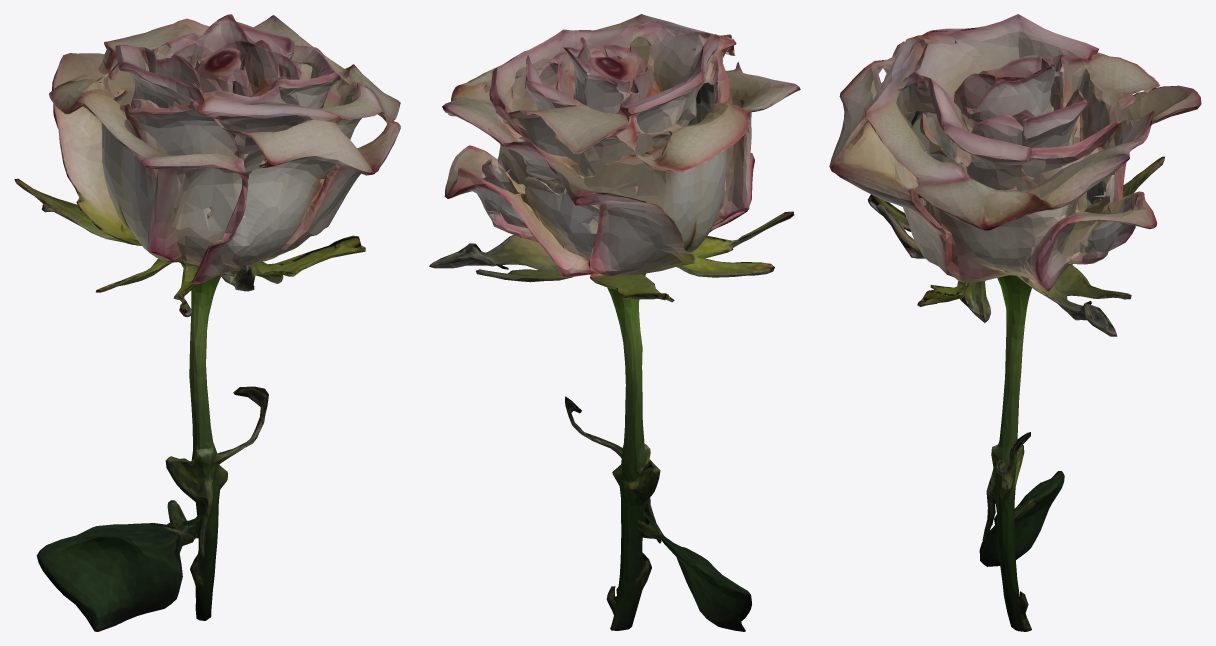
3 views of the same model, side by side, from view 1: azimuth 30°, elevation 25°; view 2: azimuth 150°, elevation 25°; view 3: azimuth 270°, elevation 25° (orthographic).
Visible parts, largest first — view 1: world; view 2: world; view 3: world.
Part boxes in pixels (<box>): world: <box>14,14,400,631</box>; world: <box>429,14,800,631</box>; world: <box>829,14,1201,631</box>.
Bounding box in the file's own units: 0.5617 × 0.9588 × 0.5552.
1 material, 1 textured.
